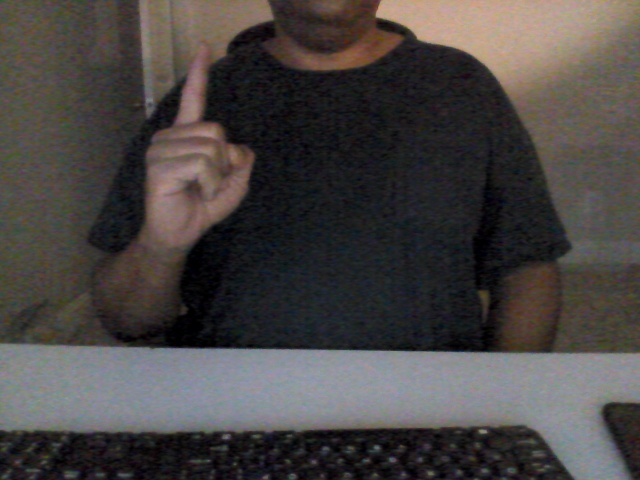up: (138, 37, 261, 253)
